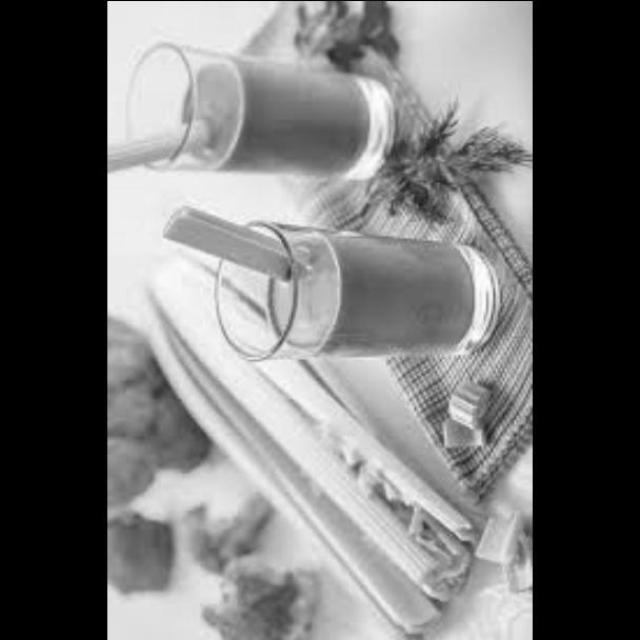broccoli: (106, 306, 208, 526), (179, 551, 317, 640), (175, 482, 280, 578)
celery: (124, 236, 497, 636), (454, 507, 531, 611), (425, 382, 493, 478)
